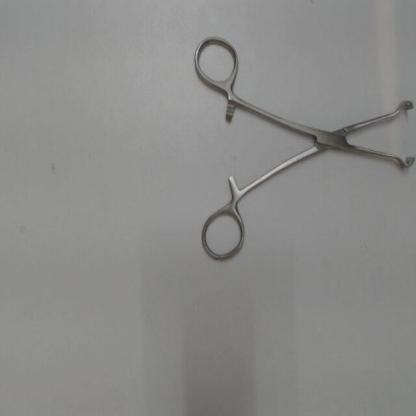Babcock Tissue Forceps: (189, 32, 415, 271)
